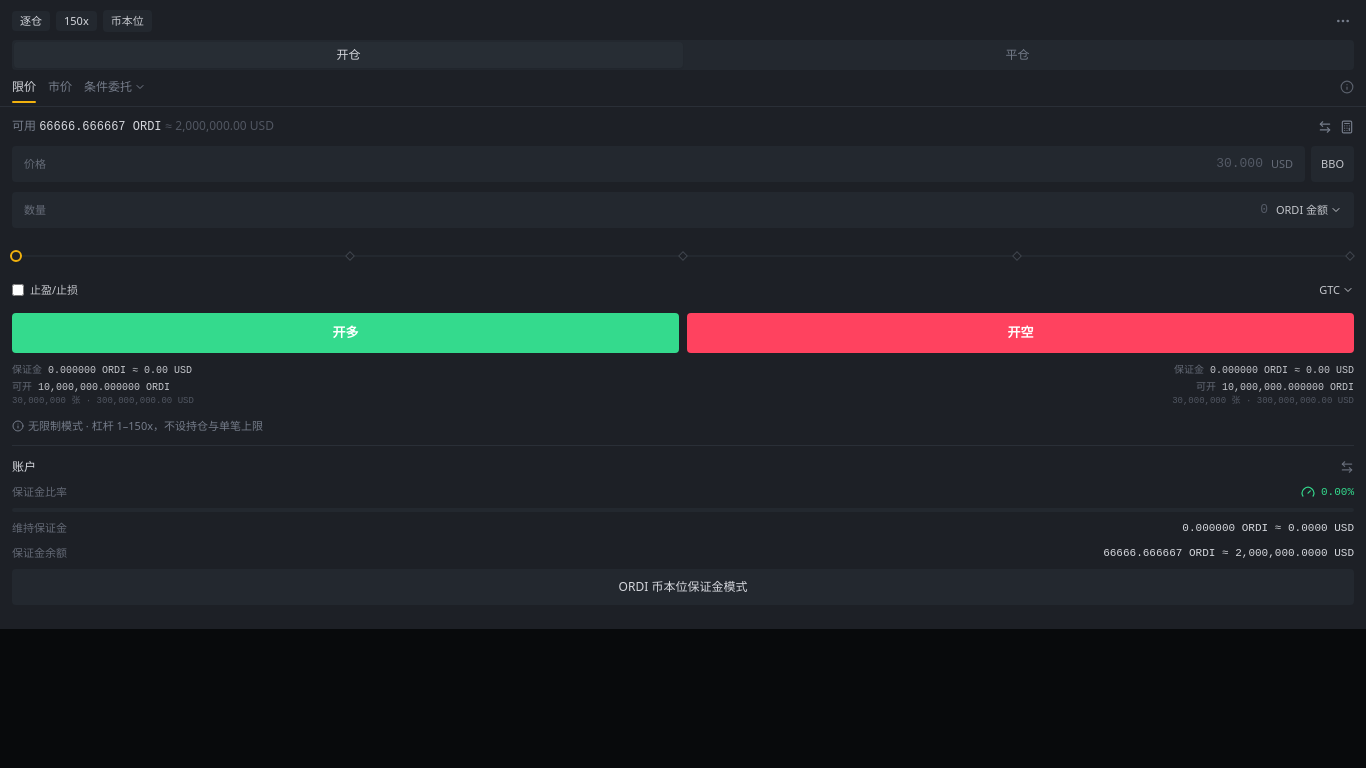
下单面板：一成交就会被强平的单标红提醒（不拦） › ORDIUSD 150x 市价 1,500,000 张（15,000,000 USD）：滑点 0.31% 越过 0.27% 的强平距离——标红，按钮照常可点
The image size is (1366, 768).
Later steps or results of the test are not shown.
Click the button "市价": (60, 90) 48,78 -> 72,102
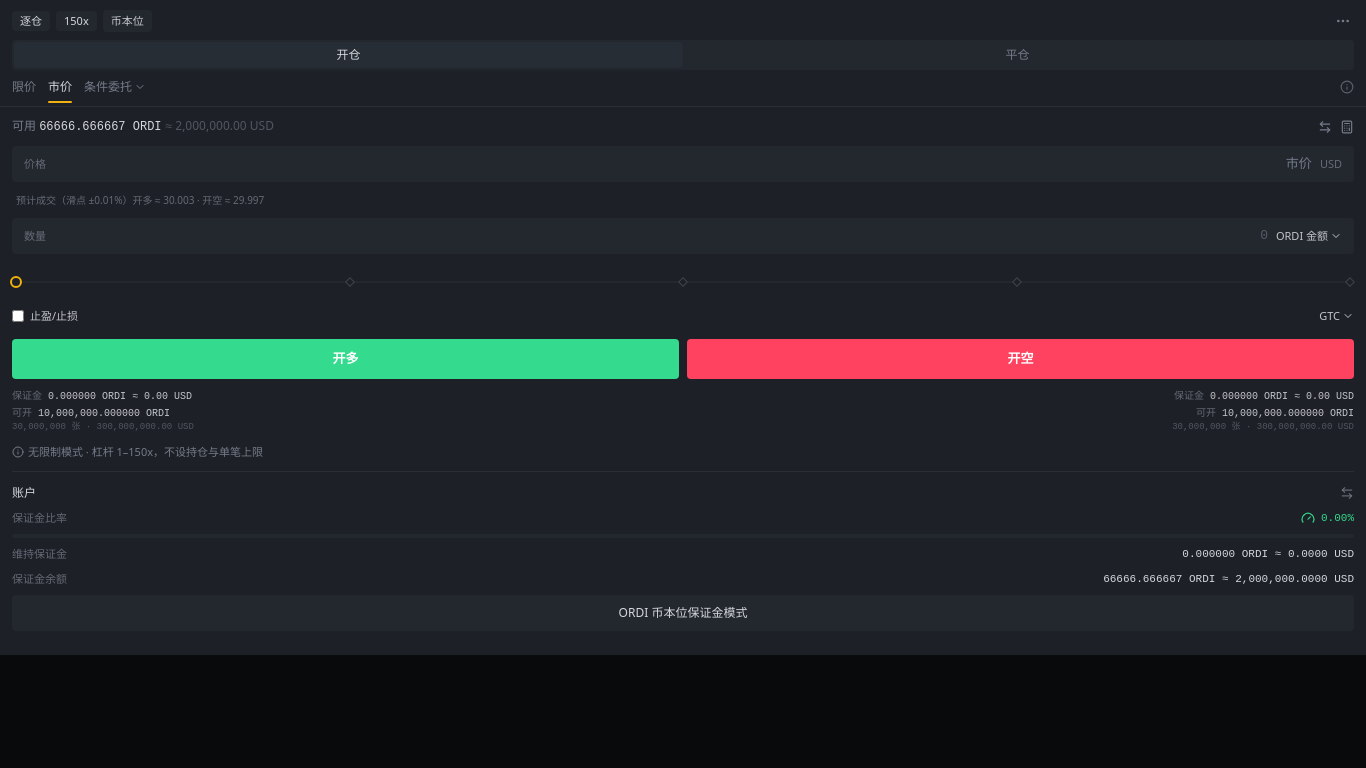
Click the button with test id "unit-preference-trigger": (1309, 236) 1276,228 -> 1342,244
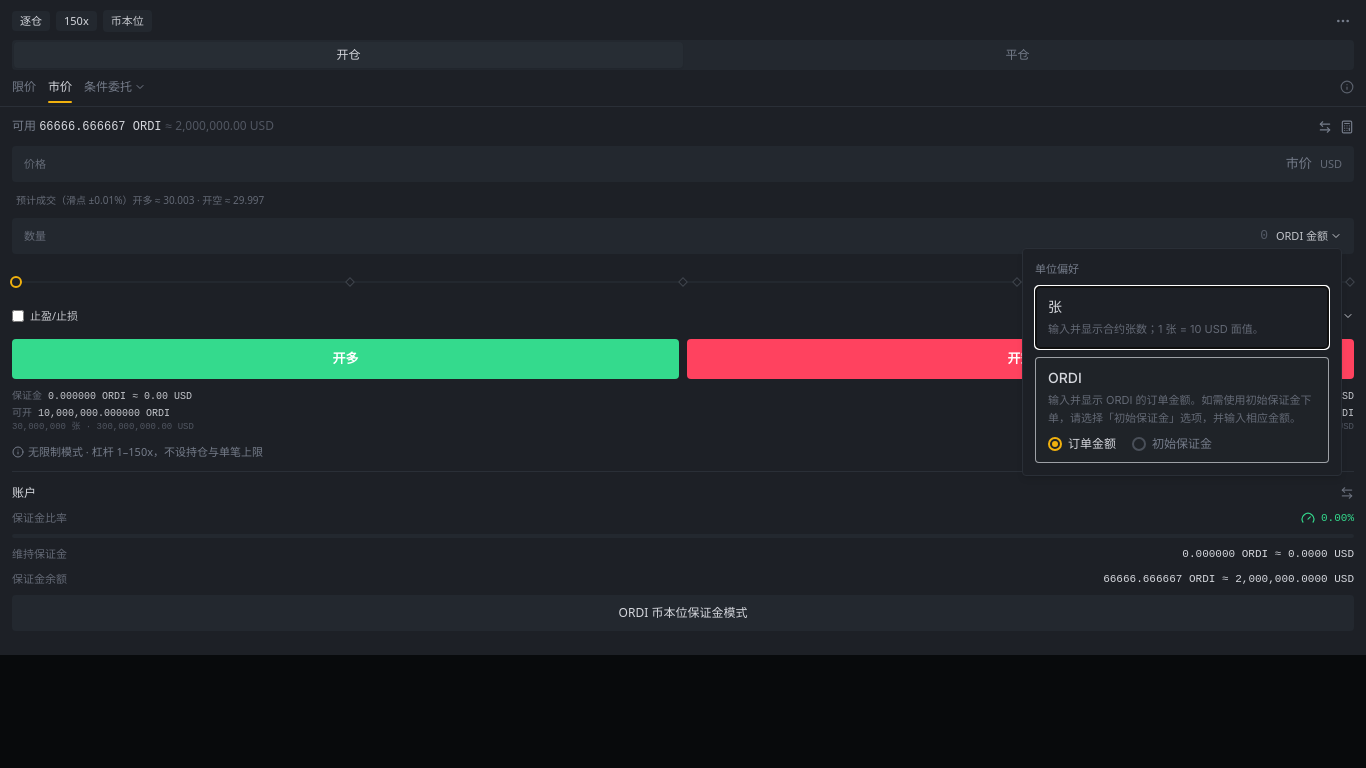
Click the button with test id "unit-card-CONTRACTS": (1156, 328) 1035,286 -> 1329,349
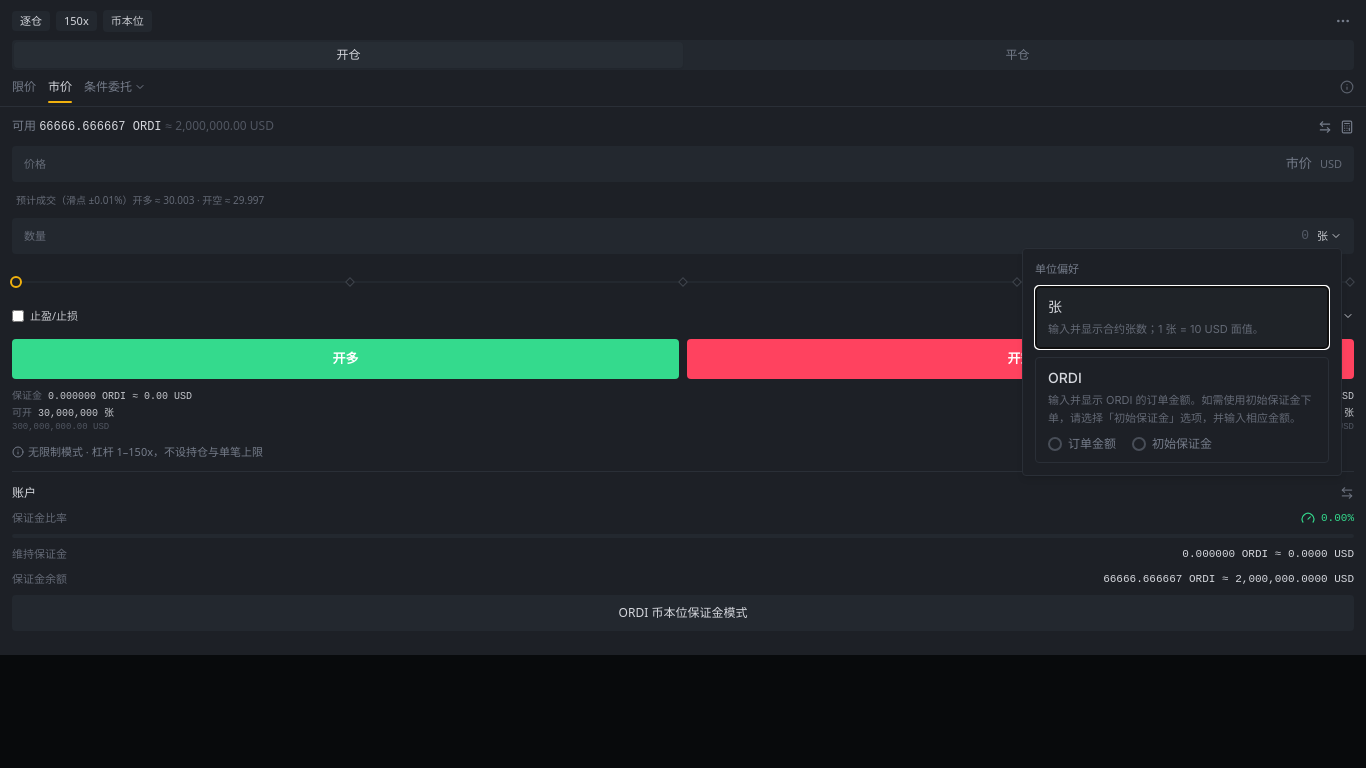
In the field with test id "order-qty-input": (682, 236) 54,226 -> 1309,246, type "1500000"
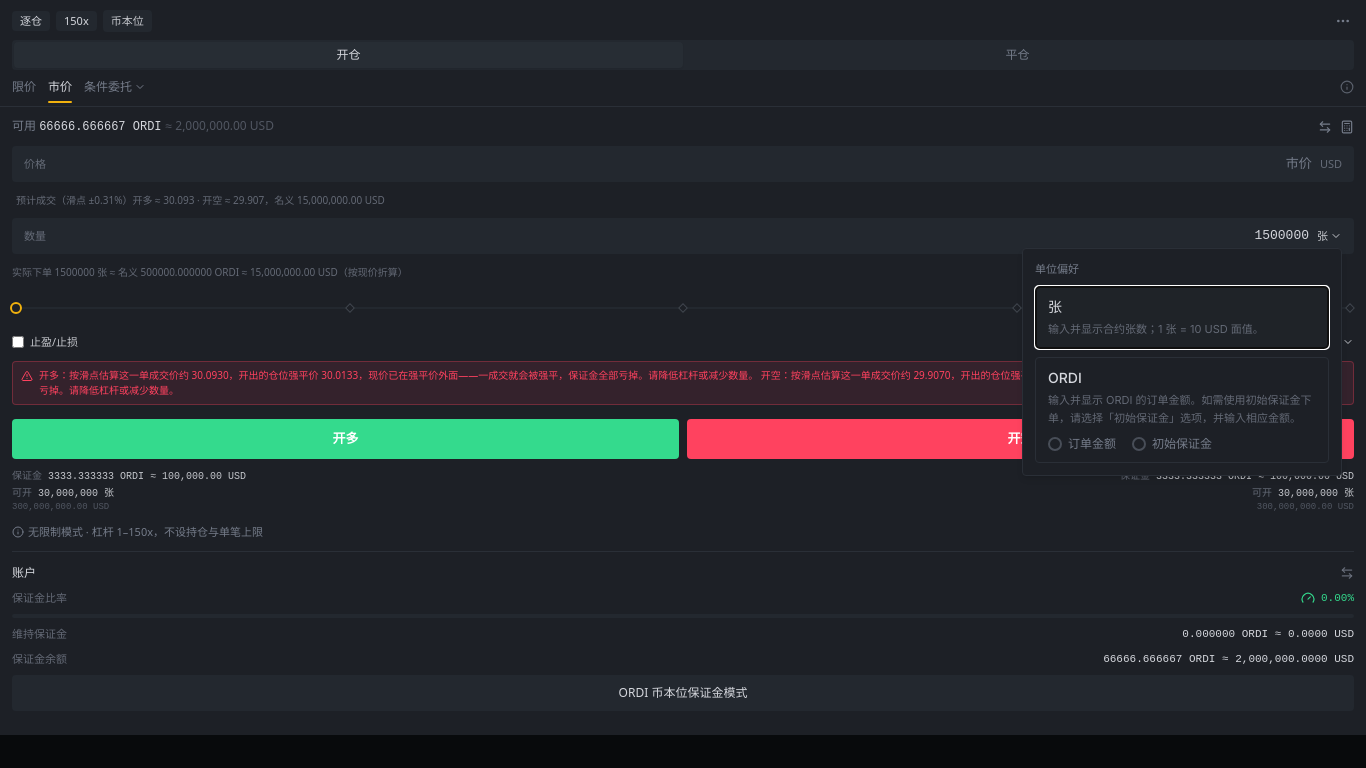
Expected: the button "开多" is enabled, 12,418 -> 679,458
Now the element with test id "opening-liquidation-warning" shows "开多：按滑点估算这一单成交价约", box 39,368 -> 1340,396
Now the element with test id "opening-liquidation-warning" shows "一成交就会被强平", box 39,368 -> 1340,396
